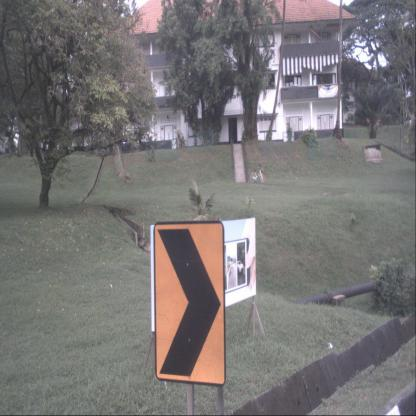vehicle-bicycle: (250, 164, 265, 184)
